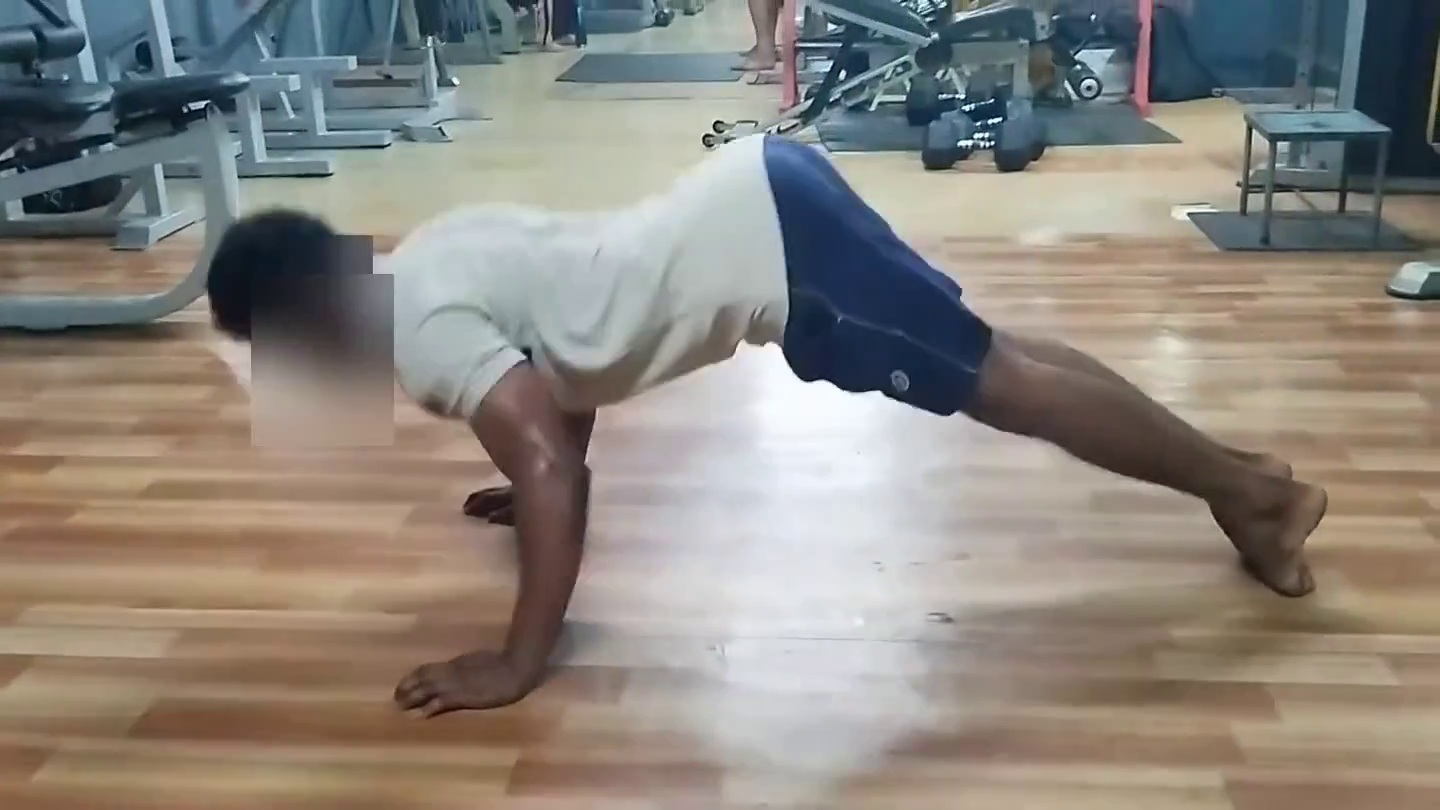push_up: (163, 110, 1412, 796)
